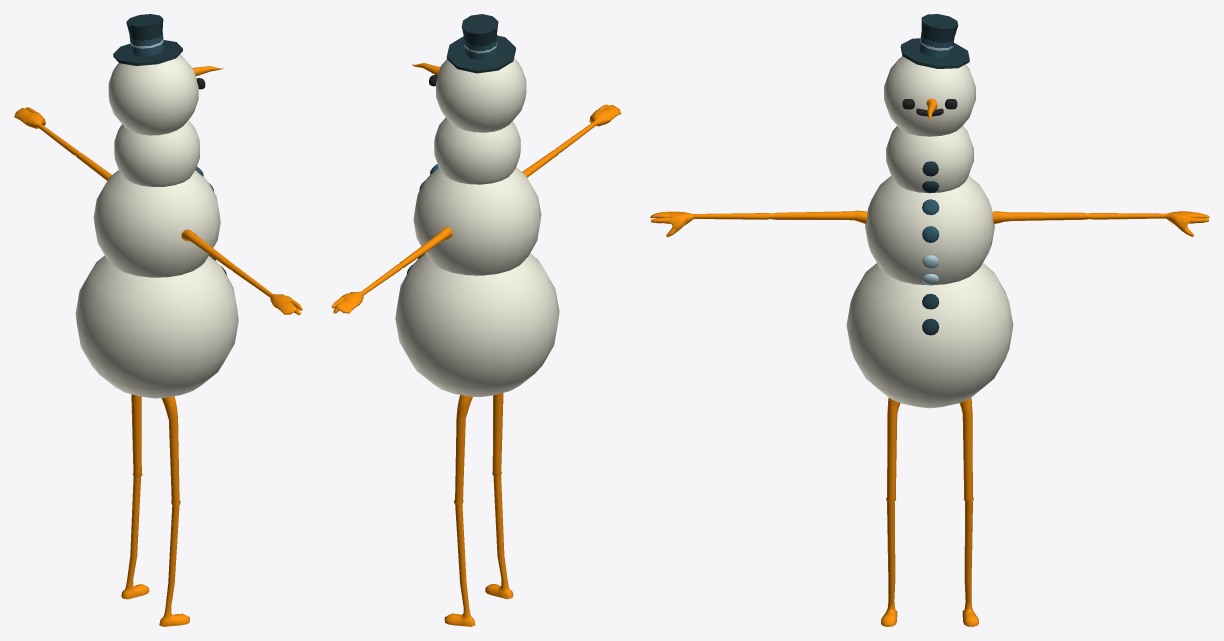
File: scene_Pp7UYBnNRD.glb
3 renders of one model, left to right at view 1: azimuth 30°, elevation 25°; view 2: azimuth 150°, elevation 25°; view 3: azimuth 270°, elevation 25°, orthographic.
Parts seen in each view (by area): view 1: Body_11; view 2: Body_11; view 3: Body_11.
Boxes of the visible parts, x1,y1,x2,y2 form: Body_11: (14,14,302,626); Body_11: (331,14,621,626); Body_11: (650,14,1209,626).
Size of the model in its own units: 1.17 by 4.64 by 3.93.
Materials: 1 (1 with a texture image).
